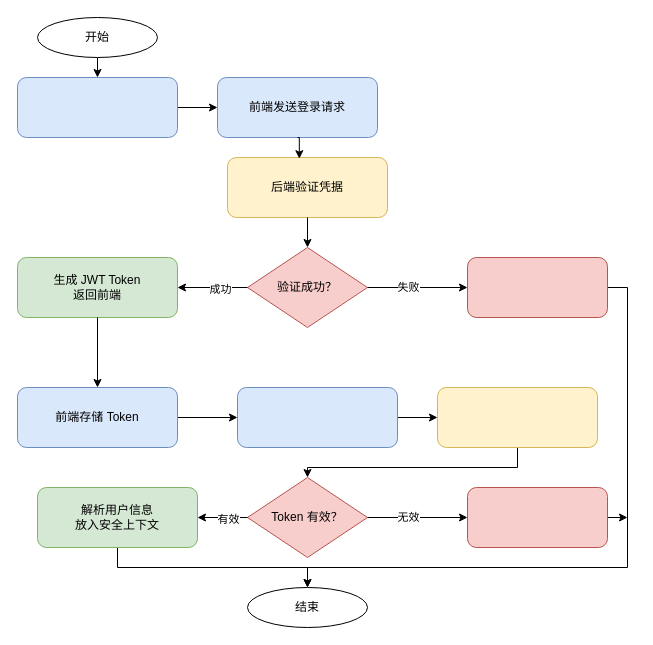
Some shapes in this 653 by 645 pixel diagram are drawn without their labels. The centre of each missing label's shape, as x and y in pixels:
"后端过滤器验证 Token" belongs at point 517,417.
"后续请求携带 Token" belongs at point 317,417.
"用户输入用户名密码" belongs at point 97,107.
"返回 401 错误" belongs at point 537,517.
"返回错误提示" belongs at point 537,287.
